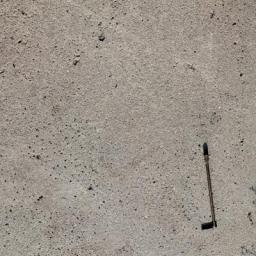FOD: (189, 142, 226, 233)
